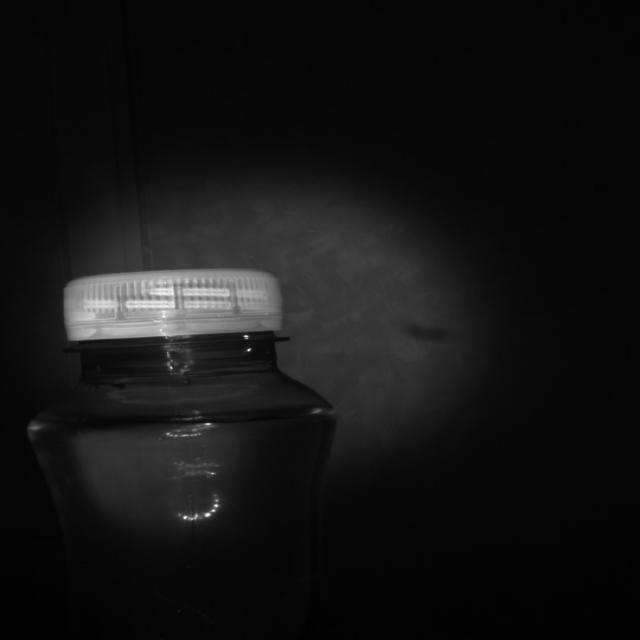Good: (66, 268, 281, 345)
